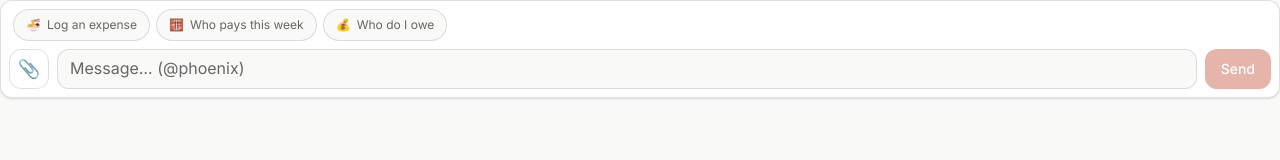
Test: Composer suggestion chips › prefills the textarea with the chip's message when tapped
Click the button "🧮 Who pays this week" at [236, 25], box [156,9,317,41]
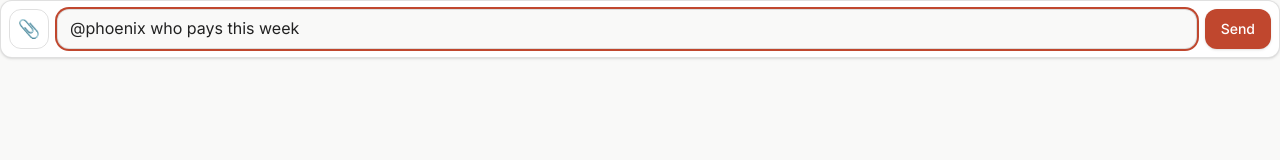
Result: the text box named "Compose message" holds "@phoenix who pays this week" at [57,9,1197,49]
